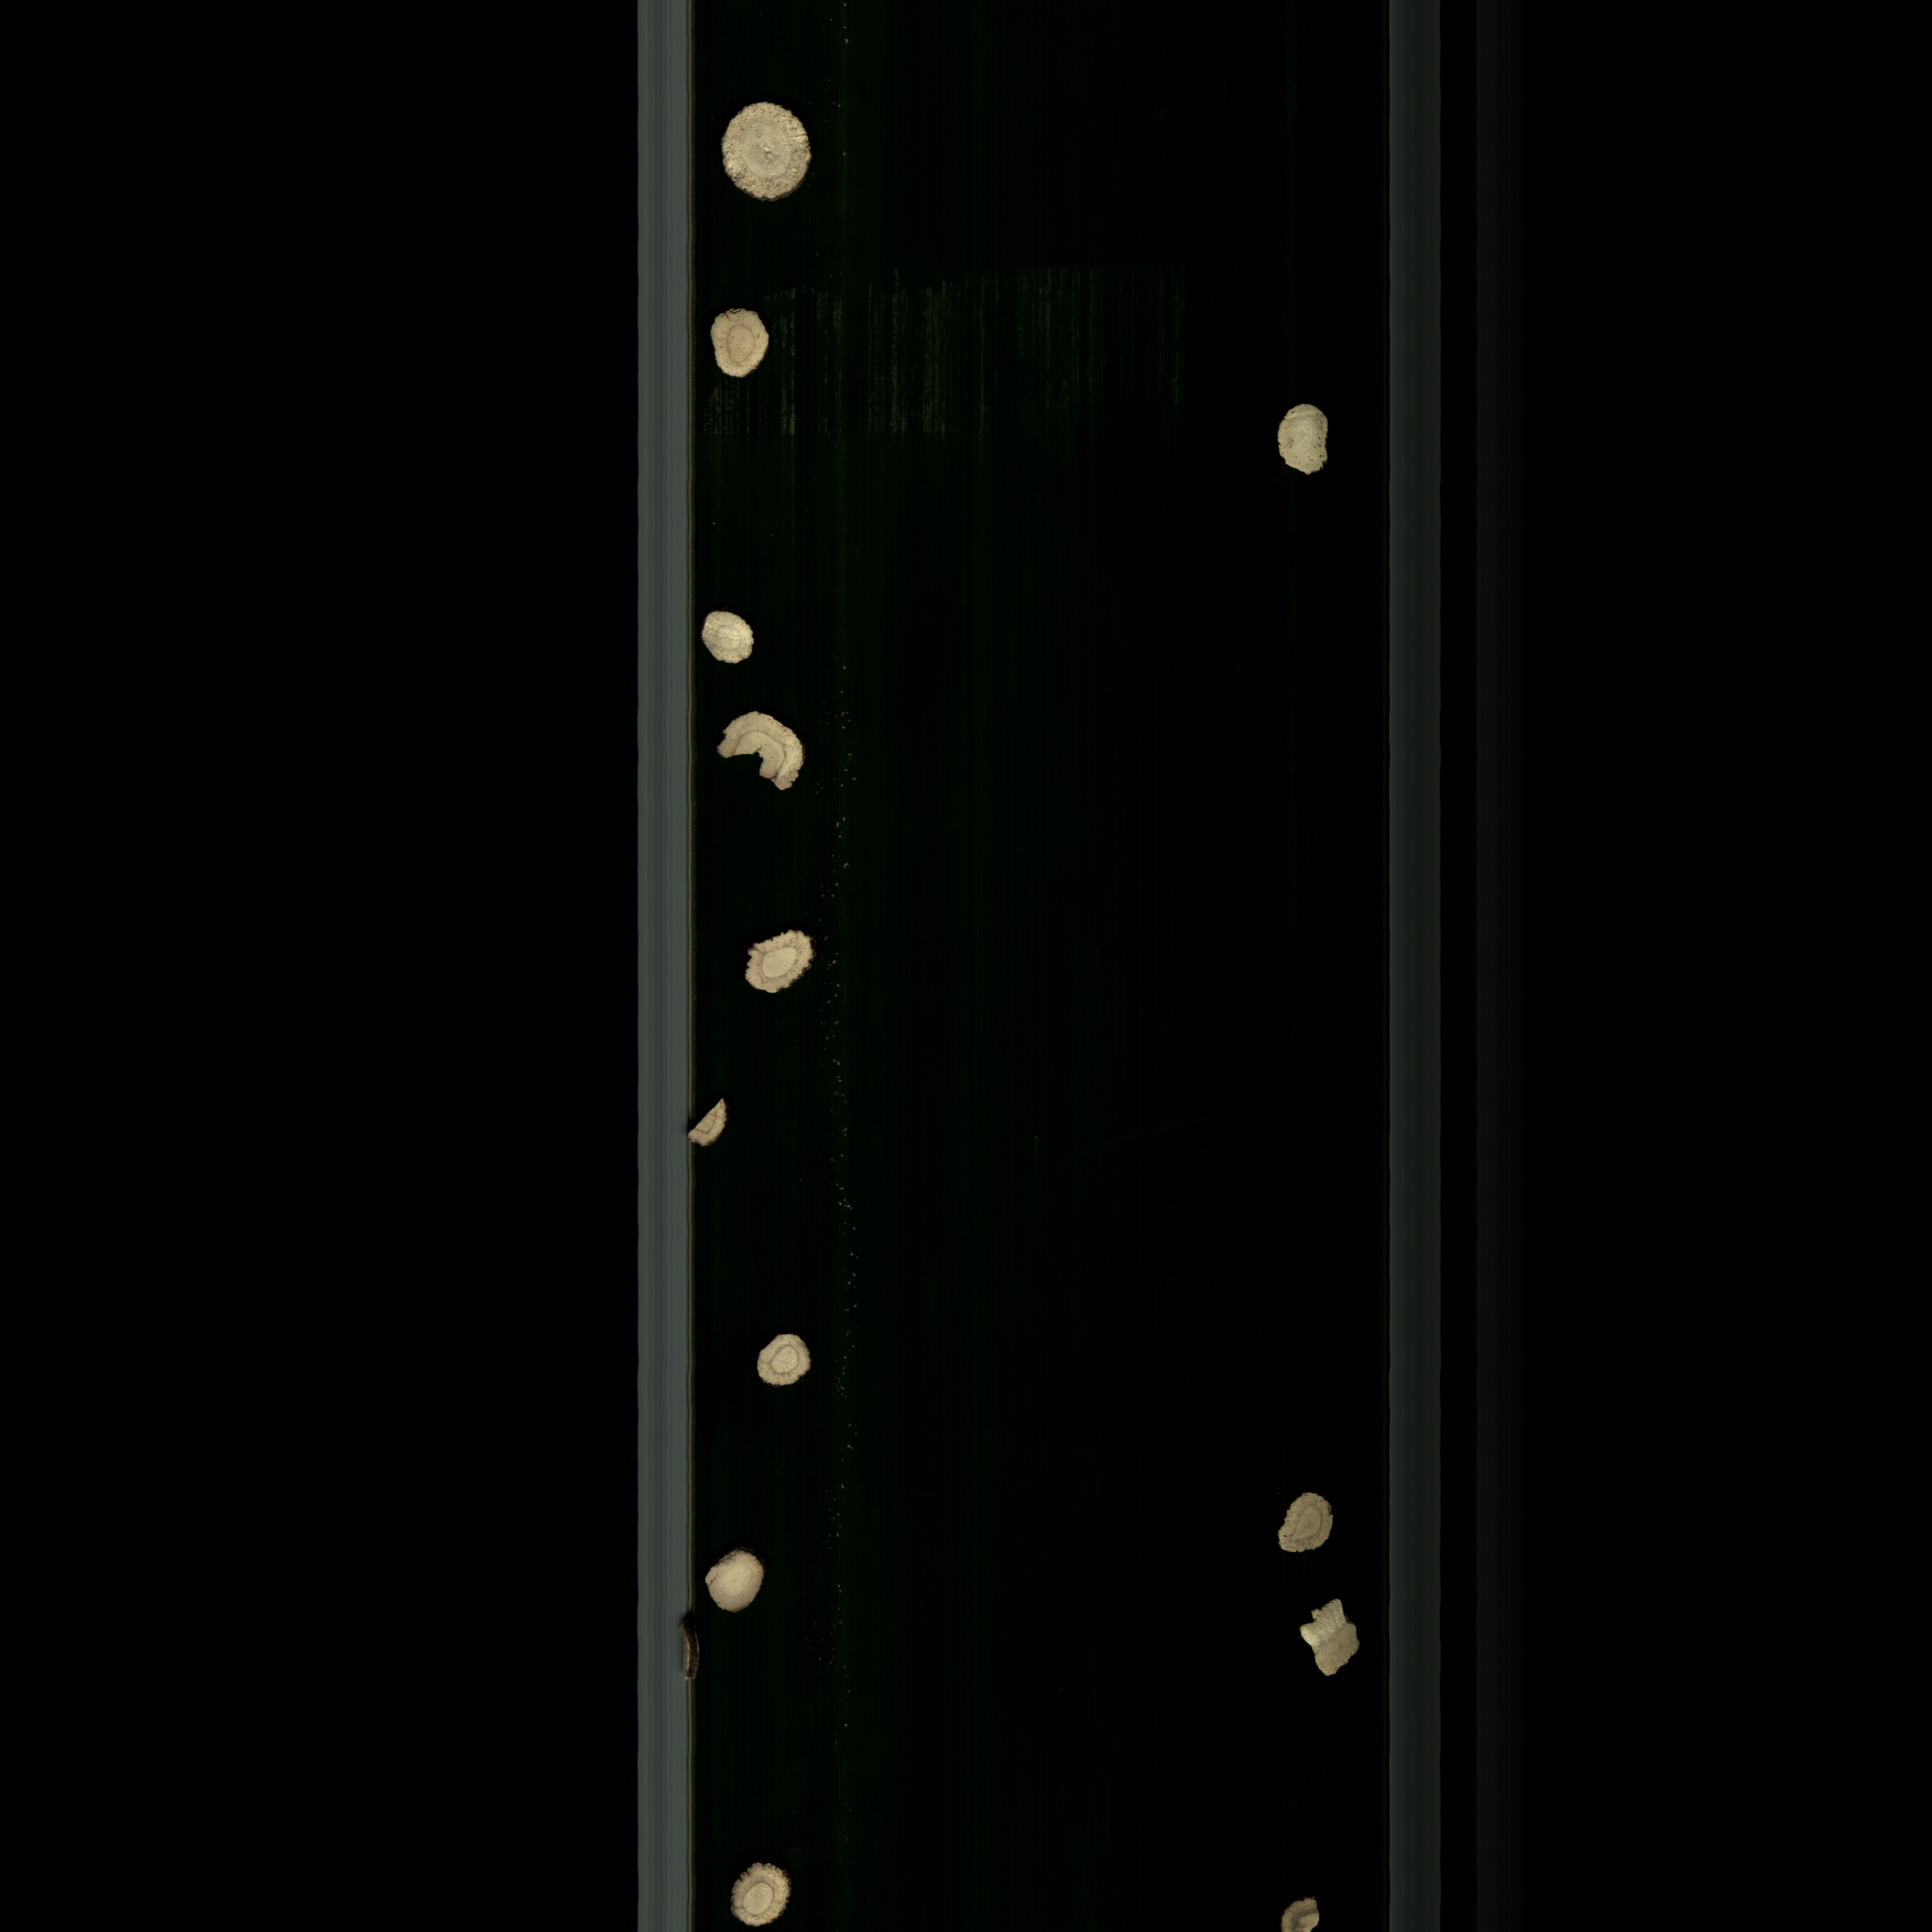bark: (669, 1615, 711, 1686)
debris: (715, 702, 810, 801), (1297, 1594, 1366, 1684), (702, 1546, 773, 1617)
distortion: (1267, 398, 1341, 487), (741, 927, 819, 1001), (1270, 1484, 1339, 1568), (747, 1329, 821, 1398)
dreg: (686, 1095, 740, 1150), (1272, 1891, 1338, 1932)
